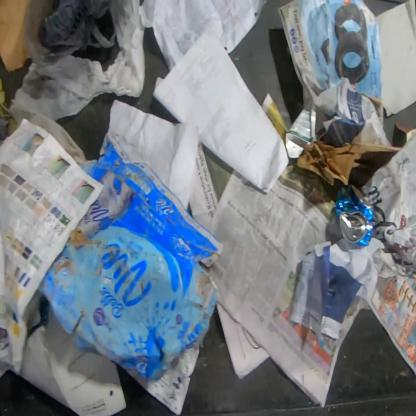cardboard: (36, 130, 228, 384)
metal: (335, 192, 374, 247)
soft_plastic: (10, 1, 146, 122)
